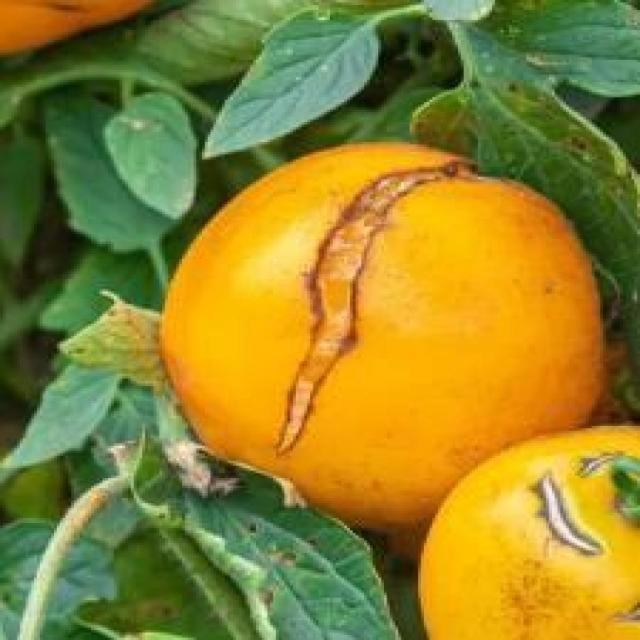Sunscald Fruit: (176, 97, 313, 316)
